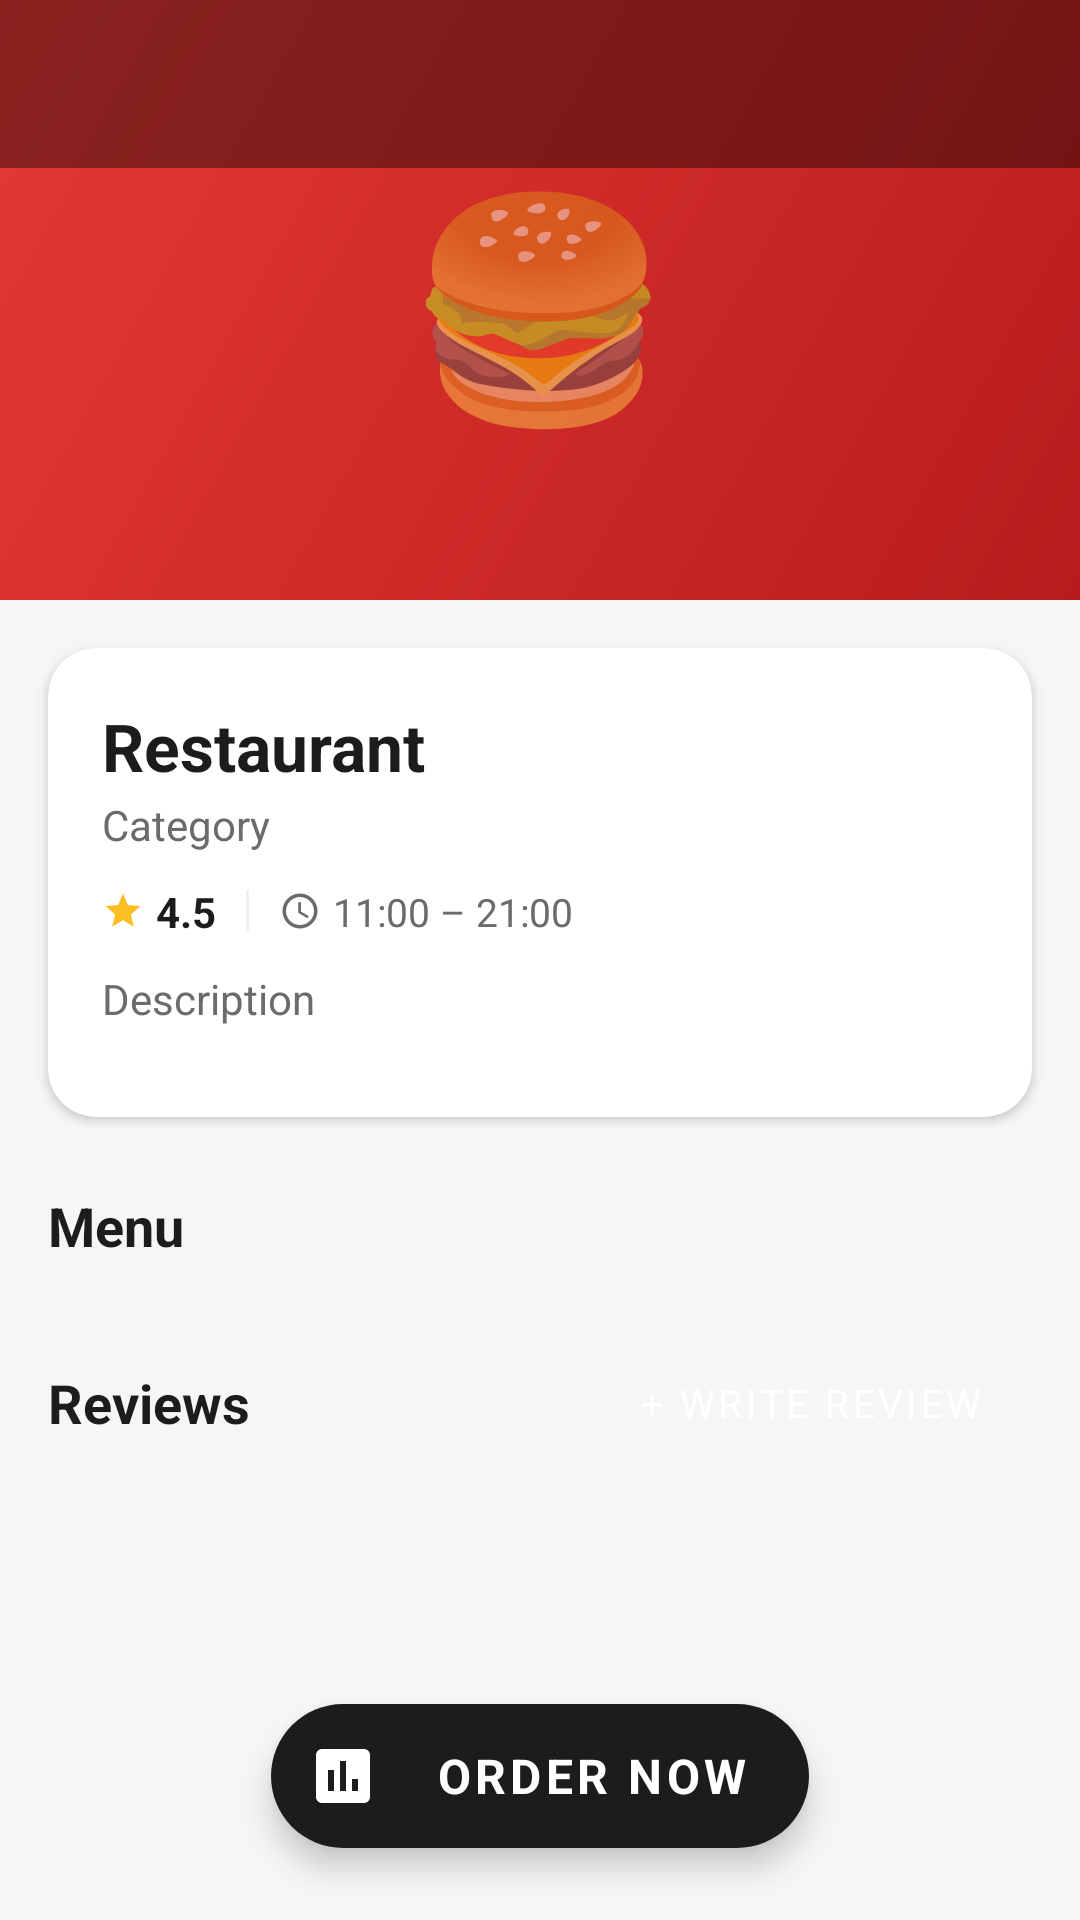

Point at icon controls on the screen. Image size 1080×1920, points as (x=x, y=y).
Hours: (x=300, y=911)
Rating: (x=123, y=910)
